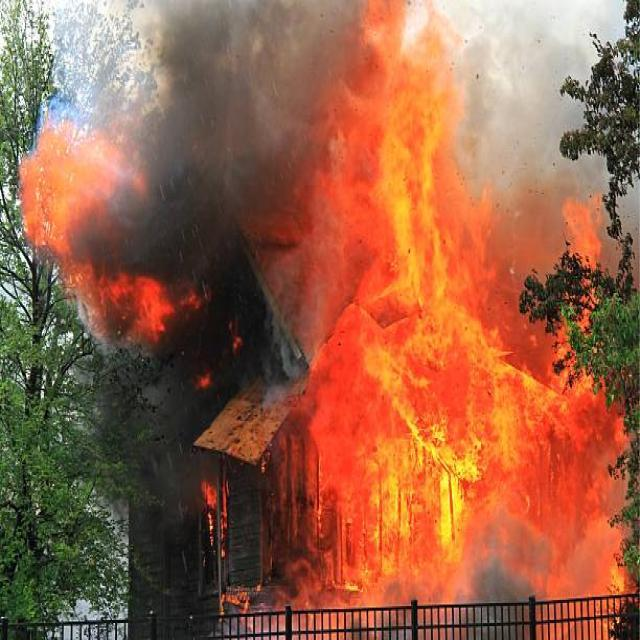Fire: (290, 33, 617, 550), (24, 114, 178, 350)
Smoke: (240, 488, 632, 604), (131, 7, 319, 238)
